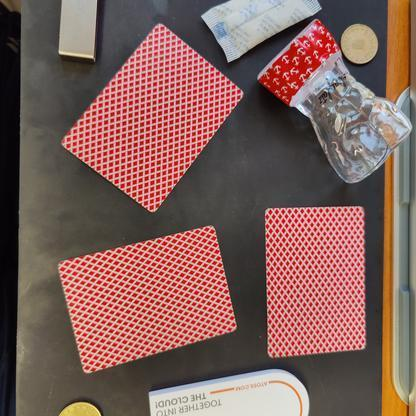card: (55, 19, 247, 215), (47, 218, 246, 376), (251, 192, 378, 363)
